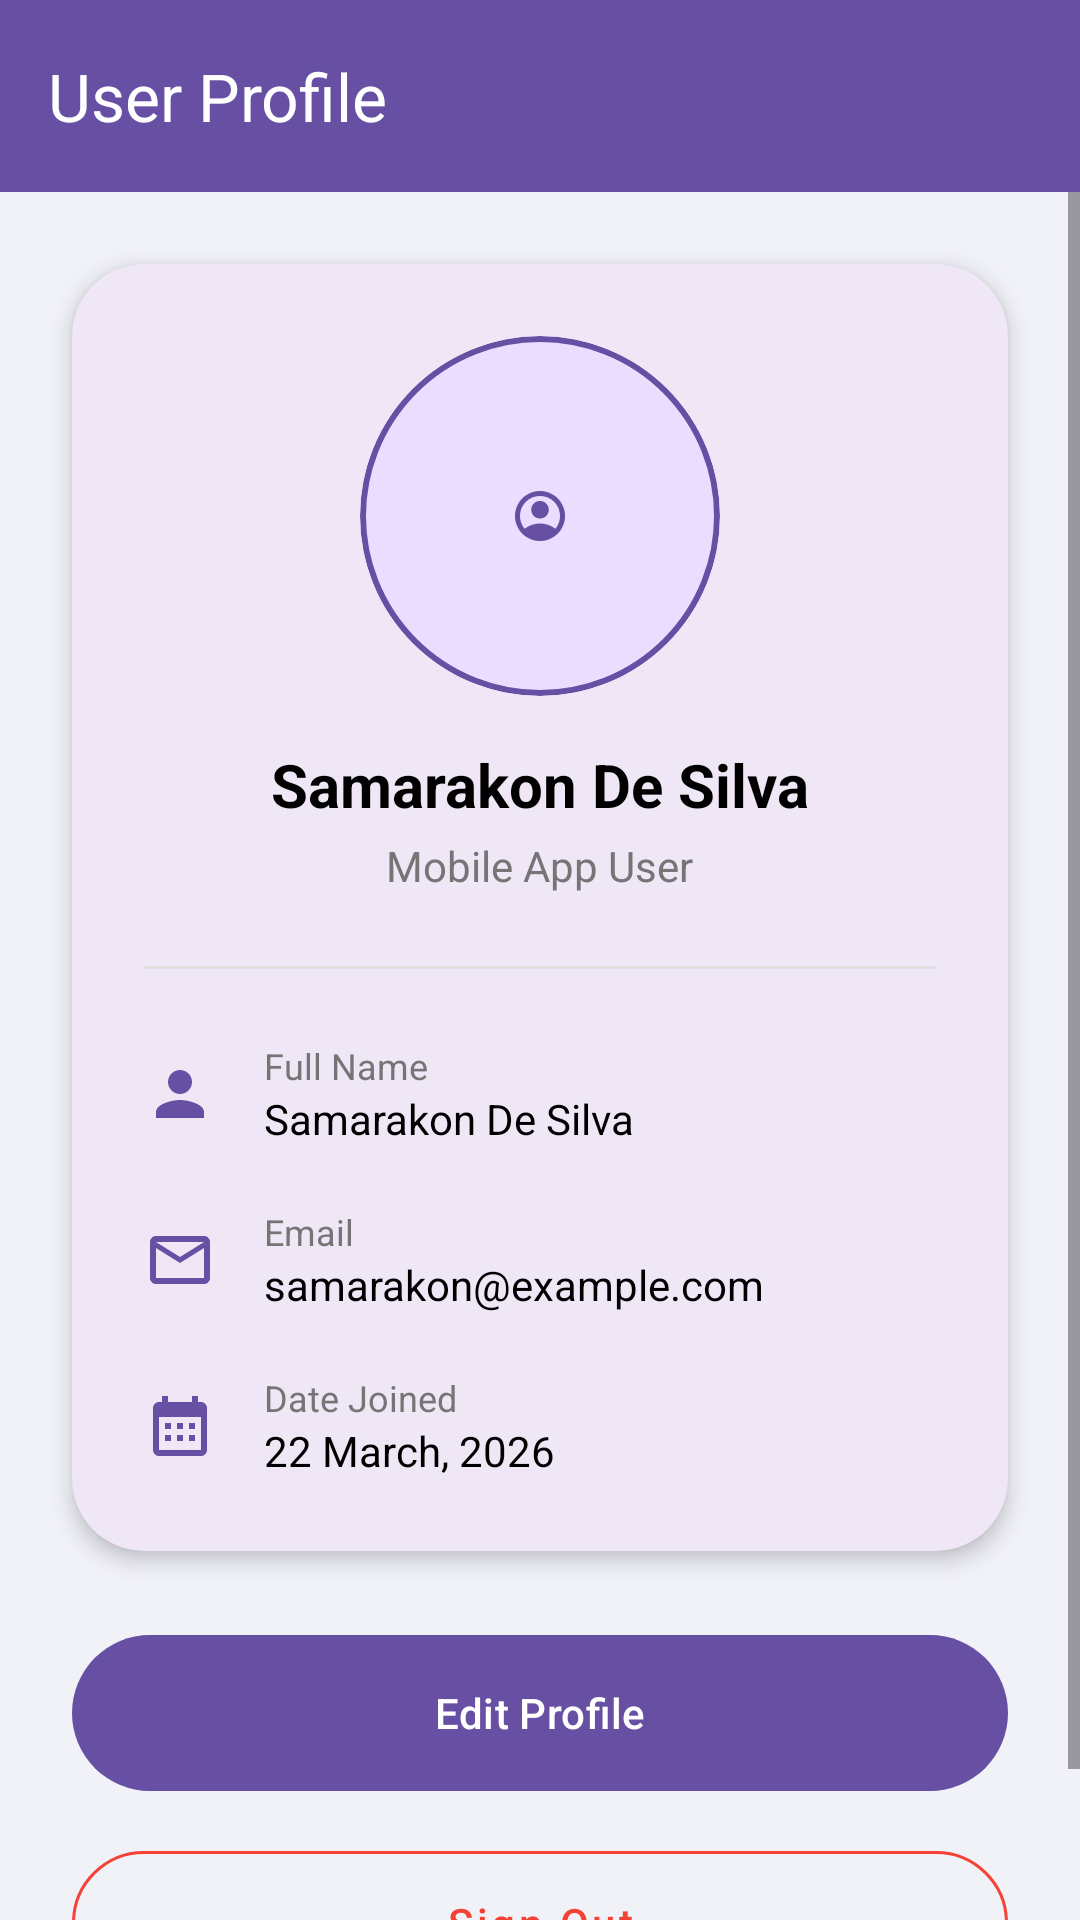

Named icons in this screenshot (1080px x 1920px) and their bounding boxes, (x1, y1, x2, y2):
calendar: (153, 1396, 207, 1456)
person: (156, 1070, 204, 1118)
profile custom: (360, 336, 720, 696)
